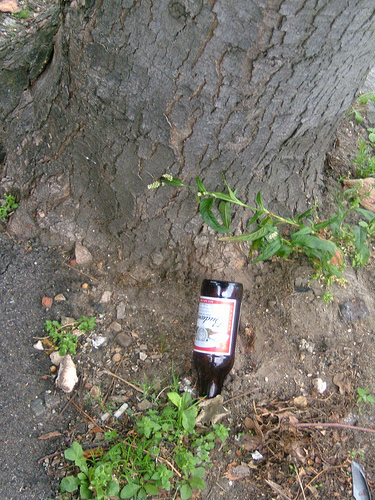litter: (191, 277, 243, 402), (348, 459, 373, 500)
